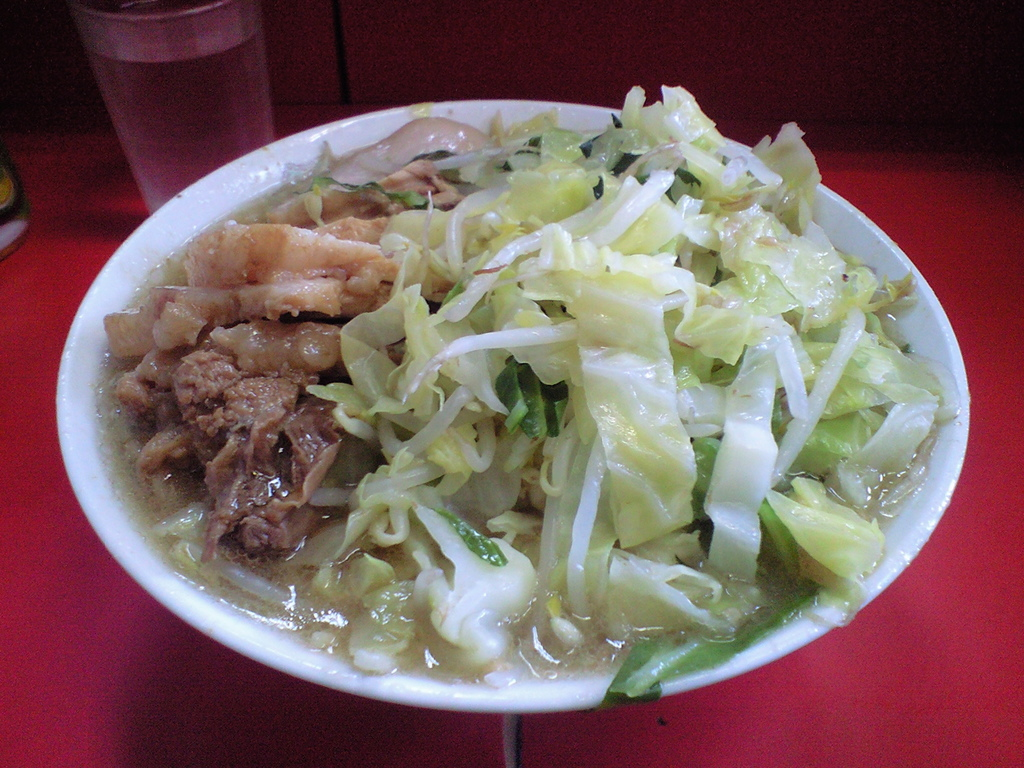salad: (100, 81, 964, 723)
